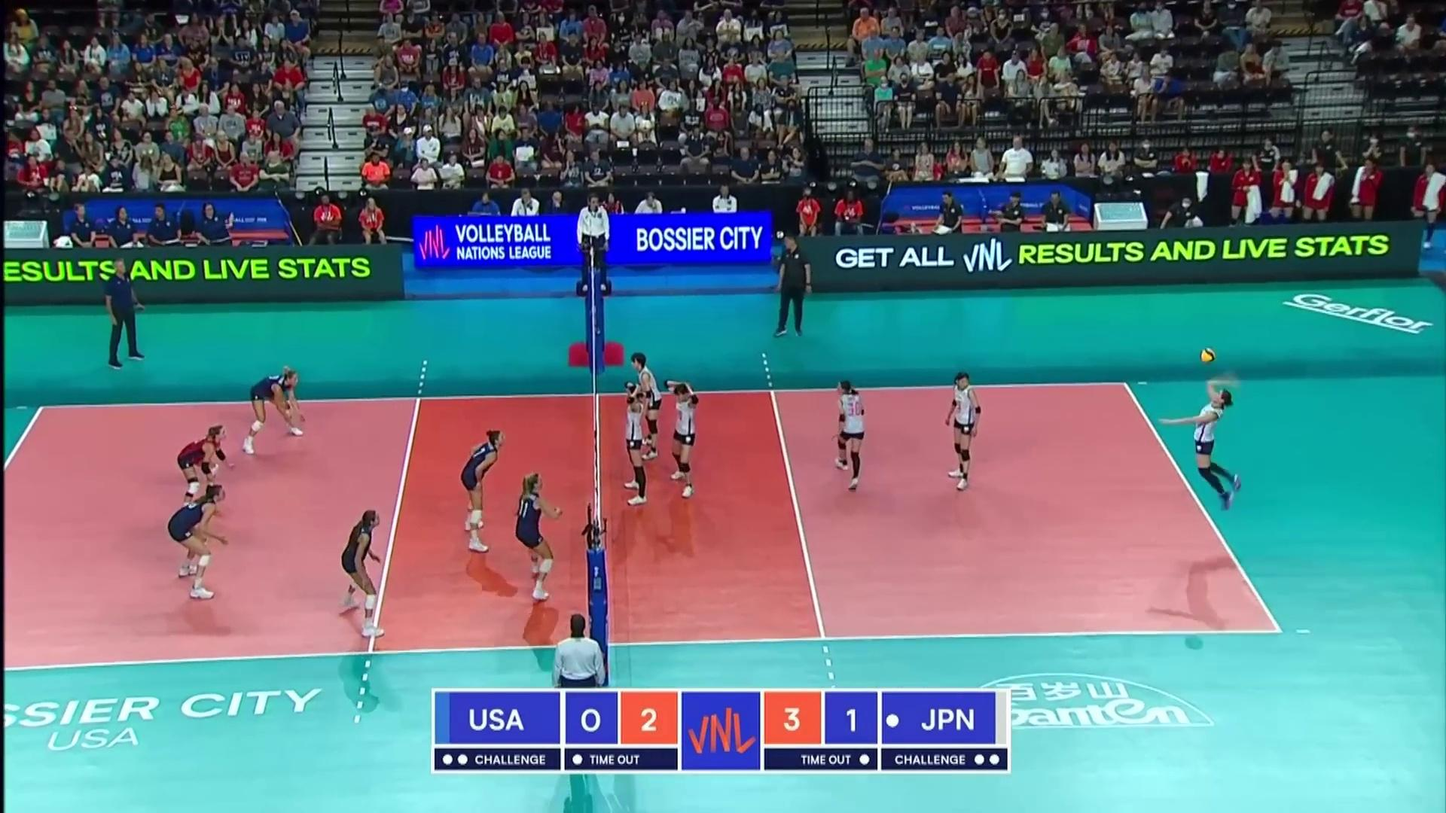player: (1162, 375, 1244, 508), (166, 483, 228, 602), (174, 422, 235, 525), (337, 510, 384, 638), (517, 472, 562, 603), (459, 431, 506, 553), (243, 369, 307, 455), (943, 373, 982, 490), (666, 379, 701, 499), (832, 382, 867, 489), (623, 381, 650, 508), (632, 353, 663, 459)
refree: (553, 615, 608, 739), (577, 194, 612, 290)
